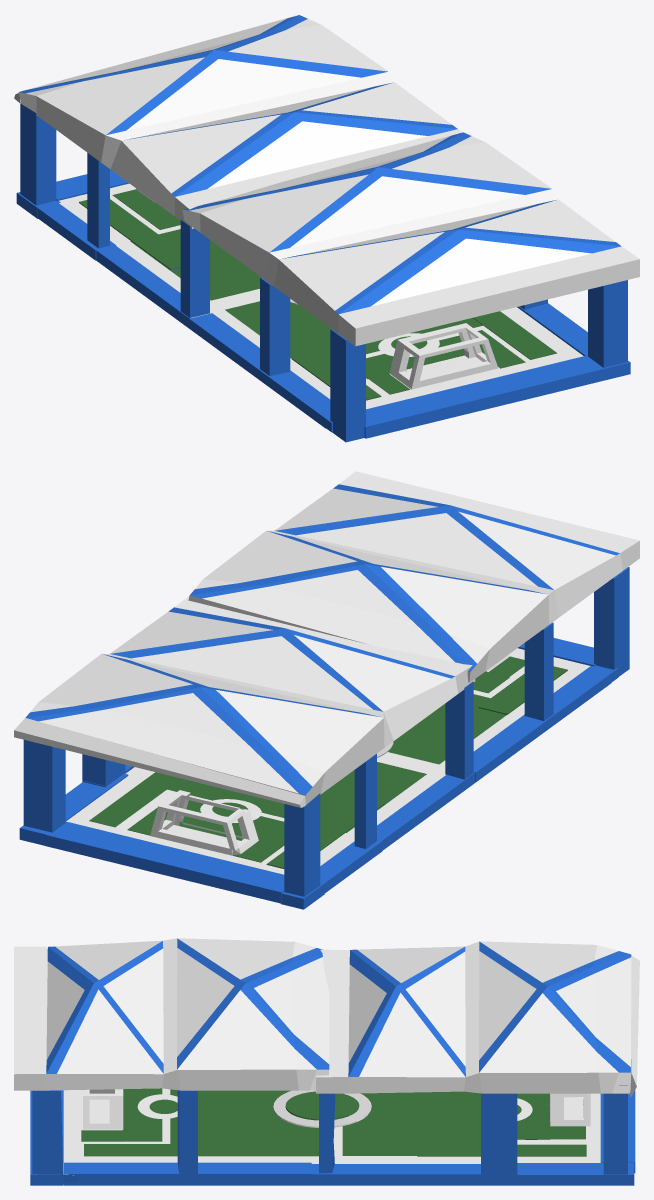
Rendered from stadium.glb.
3 views of the same model, one above another, from view 1: azimuth 30°, elevation 25°; view 2: azimuth 150°, elevation 25°; view 3: azimuth 270°, elevation 25° (orthographic). The views are drawn at different scales.
Parts seen in each view (by area): view 1: Cube; view 2: Cube; view 3: Cube, วงกลม.003, วงกลม, วงกลม.004.
Part boxes in pixels (<box>): Cube: <box>14,14,639,442</box>; Cube: <box>14,471,639,909</box>; Cube: <box>14,938,639,1185</box>; วงกลม.003: <box>285,1091,359,1120</box>; วงกลม: <box>273,1090,371,1127</box>; วงกลม.004: <box>137,1094,177,1118</box>.
Bounding box in the file's own units: 4.56 × 2.32 × 9.16.
